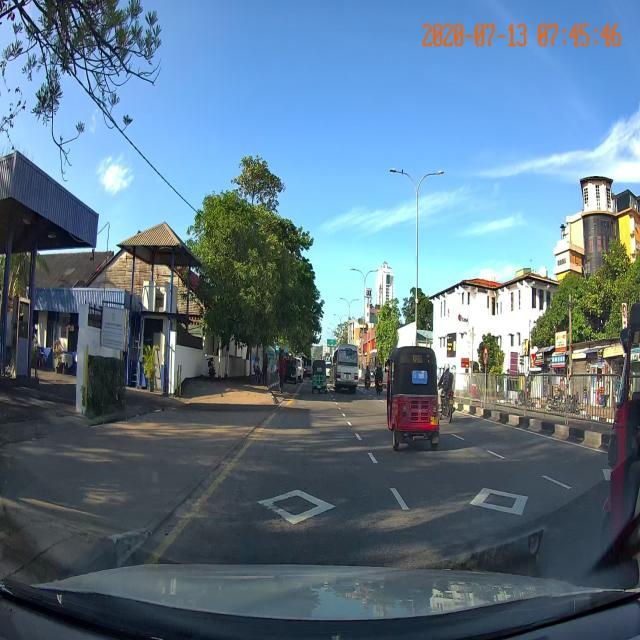diamond: (167, 482, 430, 526)
